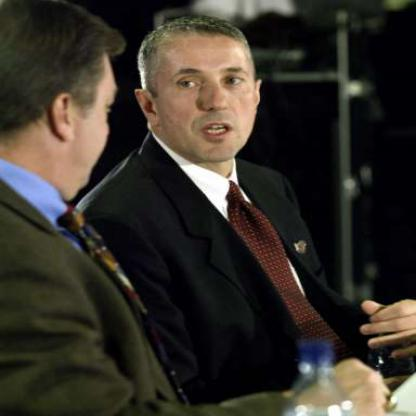face: (154, 19, 264, 163)
